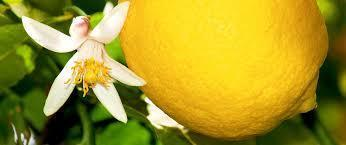lemon: (117, 0, 329, 142)
